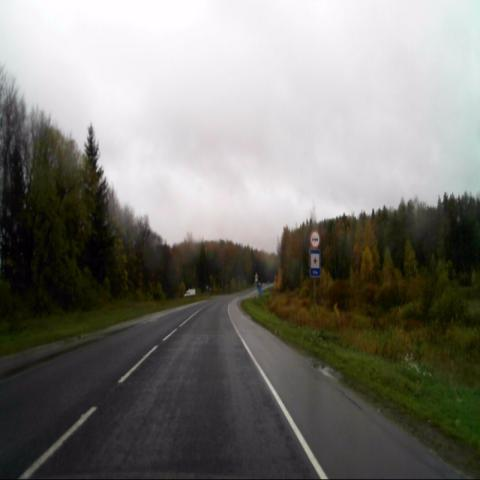7_1: (310, 251, 320, 279)
